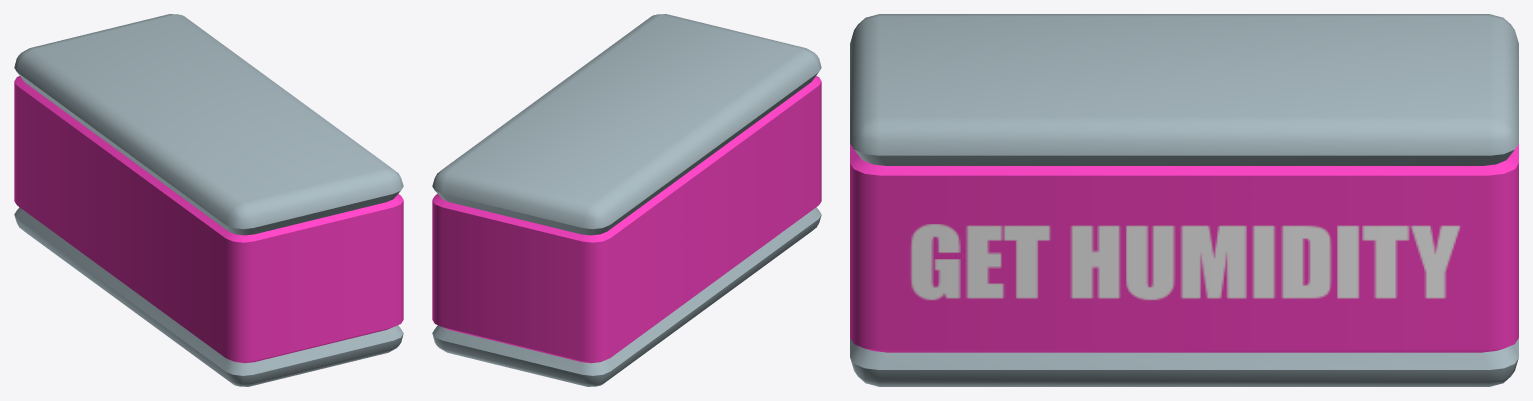
The model's file is ActionBlock_GetHumidity.fbx.
3 renders of one model, left to right at view 1: azimuth 30°, elevation 25°; view 2: azimuth 150°, elevation 25°; view 3: azimuth 270°, elevation 25°, orthographic. The views are drawn at different scales.
Parts seen in each view (by area): view 1: ActionBlock_GetHumidity; view 2: ActionBlock_GetHumidity; view 3: ActionBlock_GetHumidity.
Part boxes in pixels (left/top/right/bottom): ActionBlock_GetHumidity: left=14, top=14, right=403, bottom=386; ActionBlock_GetHumidity: left=432, top=14, right=821, bottom=386; ActionBlock_GetHumidity: left=850, top=14, right=1518, bottom=386.
Size of the model in its own units: 226 by 100 by 100.
